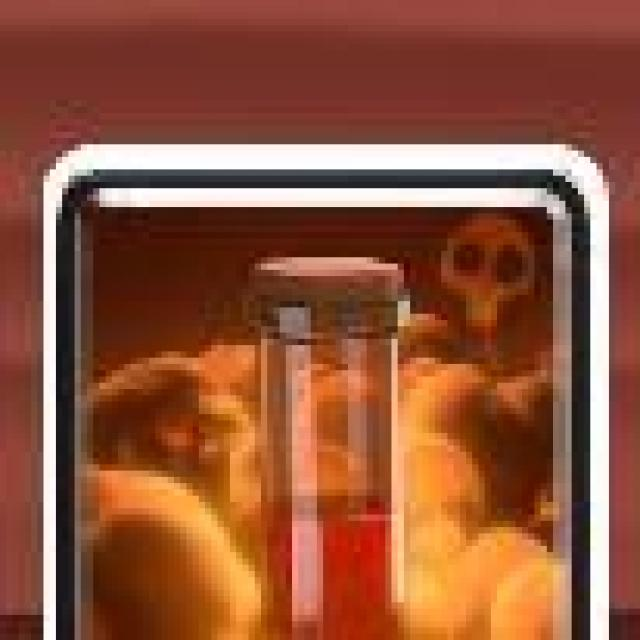Poison: (41, 146, 608, 640)
